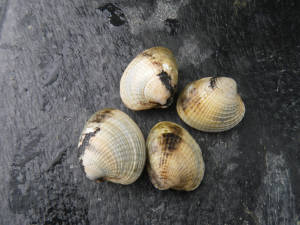cockle: (76, 109, 148, 186), (144, 120, 206, 193), (176, 74, 246, 132), (118, 46, 179, 111)
